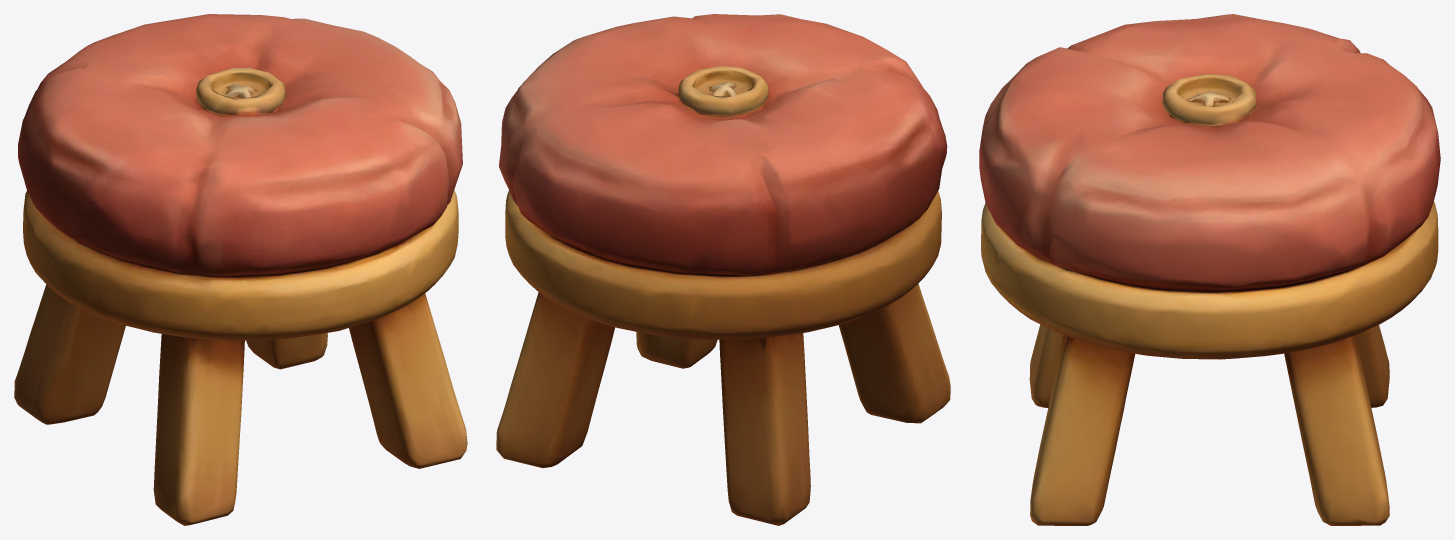
Rendered from stool.glb.
The picture shows the model from 3 angles, left to right: view 1: azimuth 30°, elevation 25°; view 2: azimuth 150°, elevation 25°; view 3: azimuth 270°, elevation 25°; orthographic projection. The views are drawn at different scales.
Visible parts, largest first — view 1: tripo_node_4b55a20e-35b5-49a3-828a-68be847c0d75; view 2: tripo_node_4b55a20e-35b5-49a3-828a-68be847c0d75; view 3: tripo_node_4b55a20e-35b5-49a3-828a-68be847c0d75.
Boxes of the visible parts, box(x1,y1,x2,y2) form: tripo_node_4b55a20e-35b5-49a3-828a-68be847c0d75: box(14, 14, 467, 525); tripo_node_4b55a20e-35b5-49a3-828a-68be847c0d75: box(496, 14, 950, 525); tripo_node_4b55a20e-35b5-49a3-828a-68be847c0d75: box(979, 14, 1440, 525).
Bounding box in the file's own units: 0.9814 × 0.8544 × 0.9782.
Materials: 1 (1 with a texture image).
